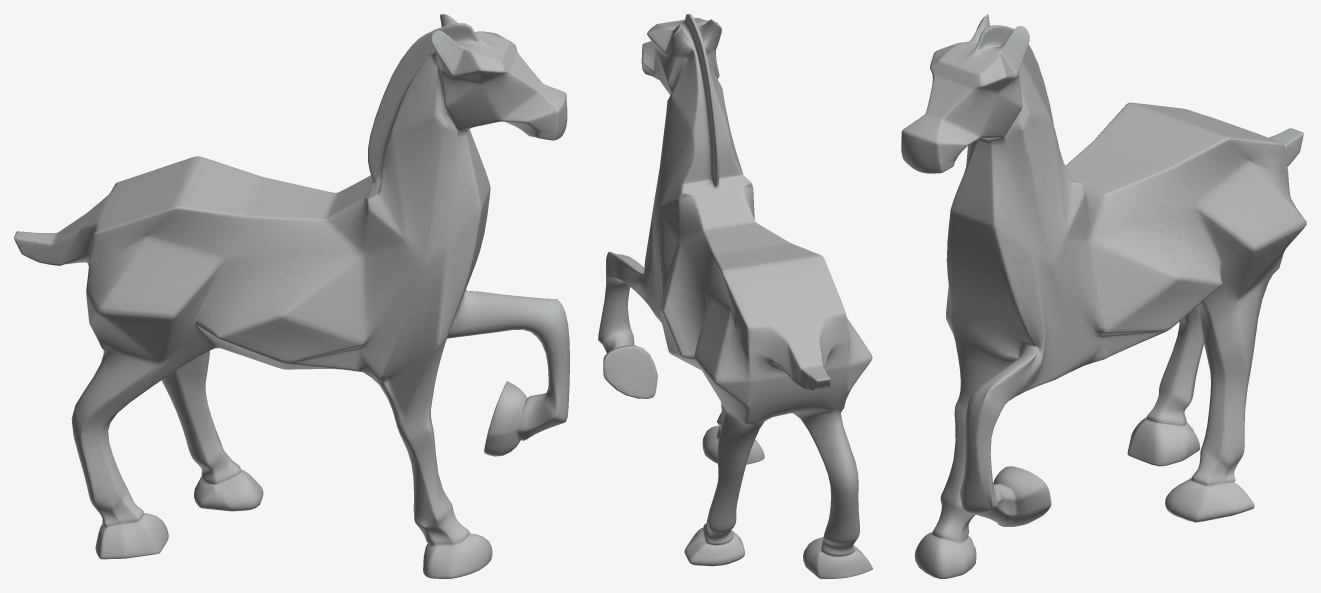
3 views of the same model, side by side, from view 1: azimuth 30°, elevation 25°; view 2: azimuth 150°, elevation 25°; view 3: azimuth 270°, elevation 25° (orthographic). The views are drawn at different scales.
Visible parts, largest first — view 1: SM_AI_vol12_04_prop_1_2; view 2: SM_AI_vol12_04_prop_1_2; view 3: SM_AI_vol12_04_prop_1_2.
Boxes of the visible parts, x1,y1,x2,y2 form: SM_AI_vol12_04_prop_1_2: (14,14,569,578); SM_AI_vol12_04_prop_1_2: (598,14,872,578); SM_AI_vol12_04_prop_1_2: (901,14,1306,578).
Size of the model in its own units: 3.31 by 4.01 by 2.67.
Materials: 1 (1 with a texture image).
